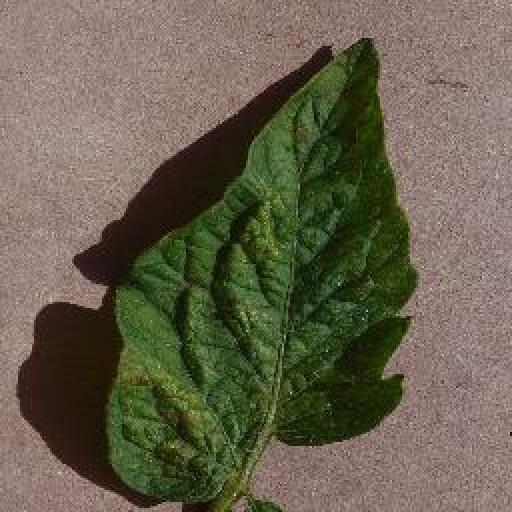Spider Mites: (107, 35, 420, 505)
